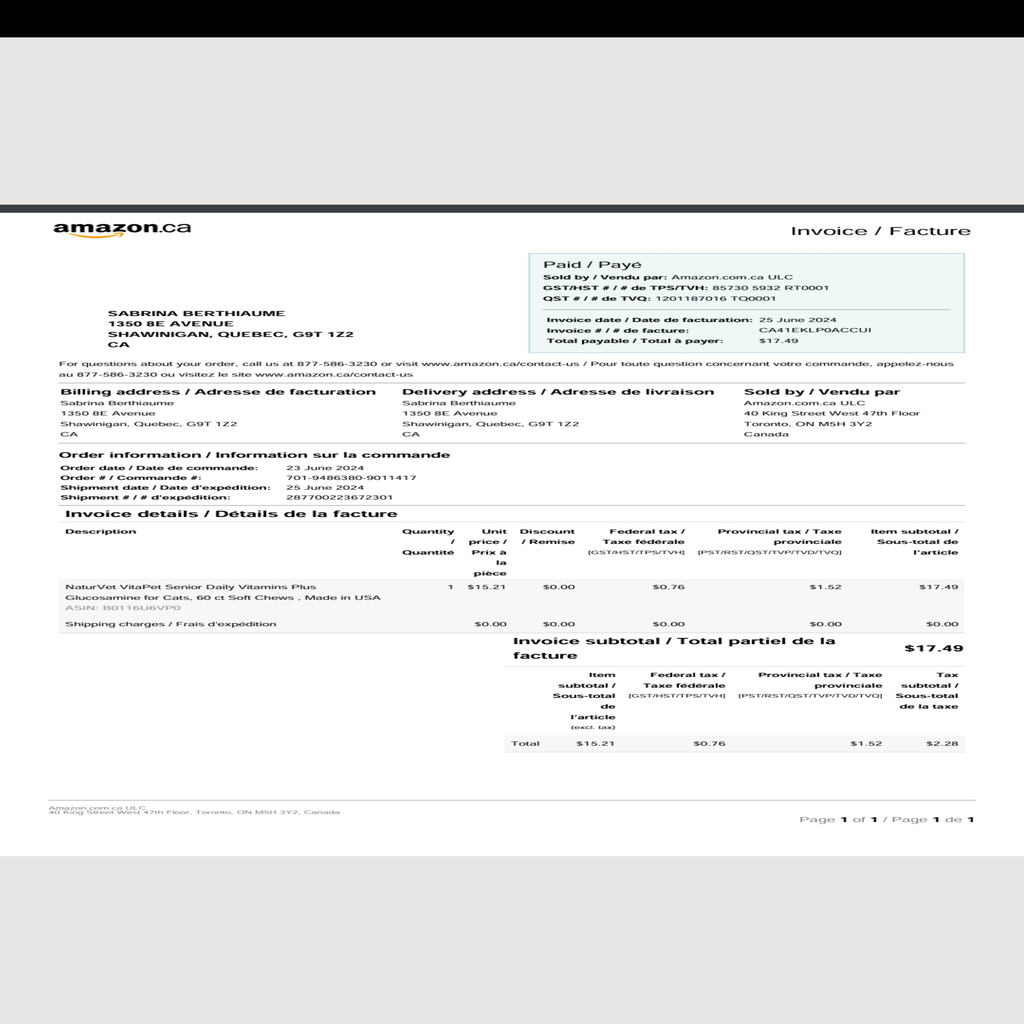recipt: (0, 212, 1022, 860)
